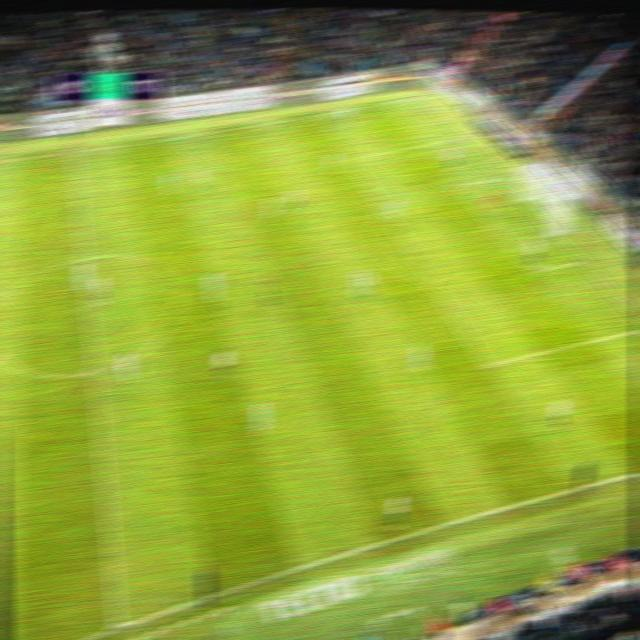bigarea_bottom_inner: (478, 358, 498, 371)
bigarea_top_inner: (341, 153, 358, 164)
bigarea_top_outter: (451, 132, 470, 144)
bottom_arc_area_intersection: (422, 276, 442, 289)
corner: (410, 90, 431, 103)
halfcircle_bottom: (83, 362, 104, 377)
halfcircle_top: (73, 250, 94, 264)
midline_bottom_intersection: (105, 619, 127, 635)
midline_top_intersection: (61, 143, 80, 156)
smallarea_bottom_inner: (523, 262, 542, 277)
smallarea_bottom_outter: (569, 254, 590, 269)
smallarea_top_inner: (448, 179, 467, 189)
smallarea_top_outter: (488, 172, 509, 186)
top_arc_area_intersection: (373, 204, 392, 216)
